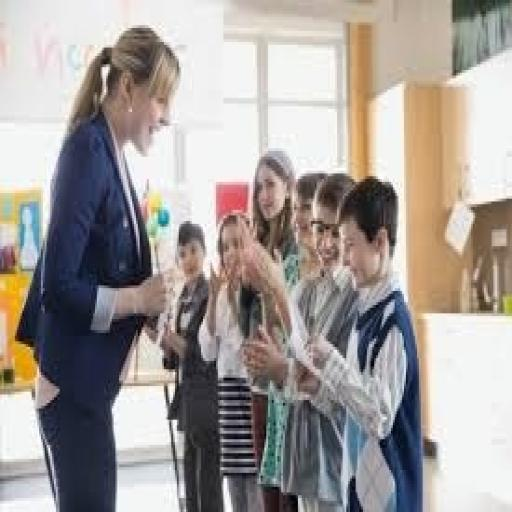clapping: (236, 135, 407, 495), (306, 181, 439, 512), (189, 132, 315, 468)
